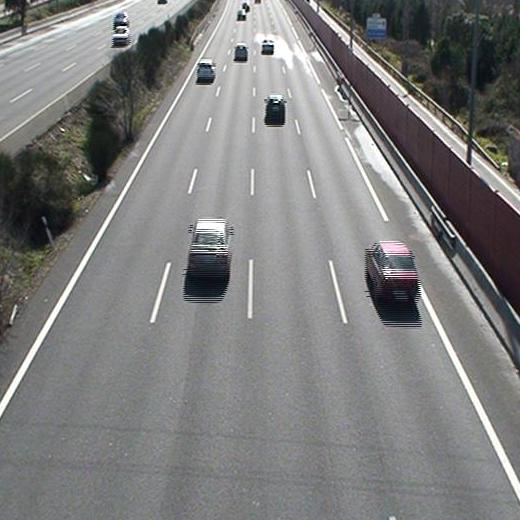car: (365, 239, 420, 304), (188, 218, 232, 279), (264, 94, 285, 118), (196, 58, 216, 81), (234, 44, 248, 62), (261, 38, 274, 55)
